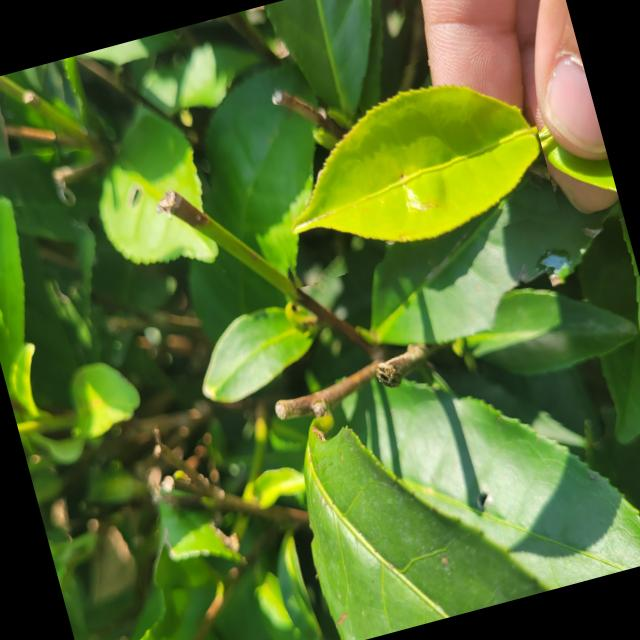Catagory A(1-2 days): (240, 36, 560, 290)
